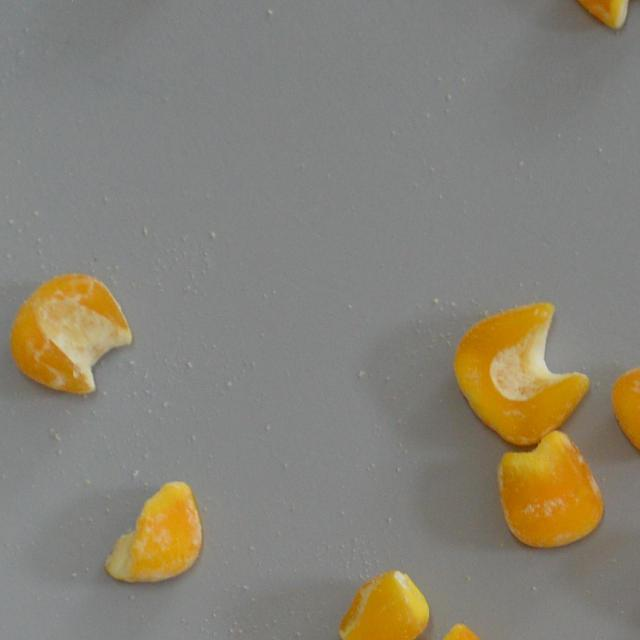dañado: (446, 299, 592, 447), (4, 268, 138, 402), (492, 426, 607, 553), (100, 477, 207, 589), (336, 566, 430, 640), (606, 354, 640, 464), (399, 618, 512, 640)
